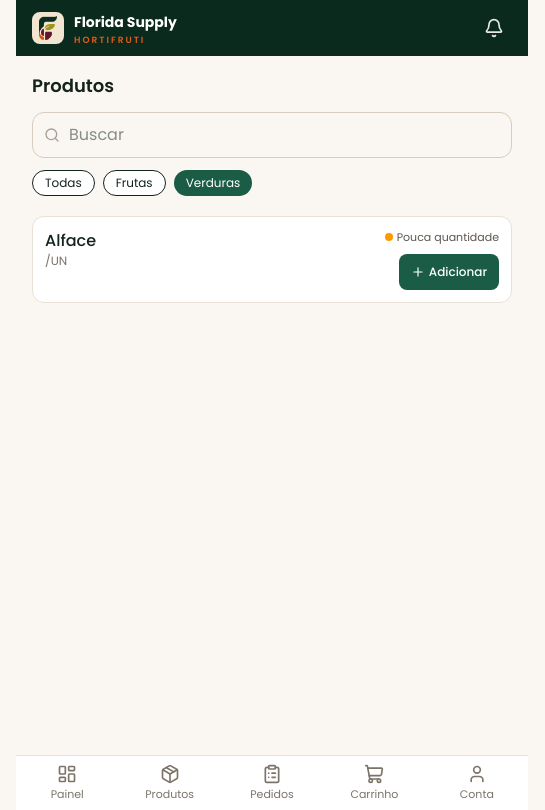
compras › catálogo: busca, categorias e carrinho
Earlier steps of the test are not shown.
Later steps or results of the test are not shown.
Expected: the text "Morango" is not shown
Click the button "Todas" at (63, 183), box x1=32 y1=170 x2=95 y2=196
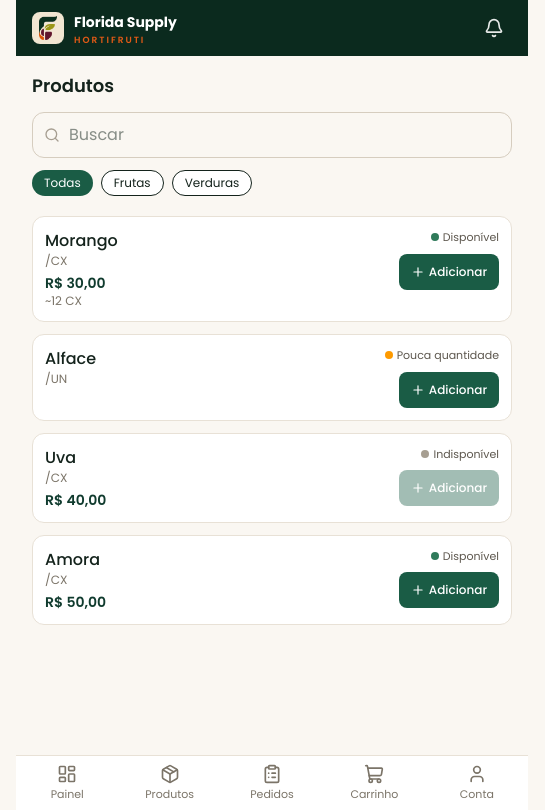
Type "mor" into the field with placeholder "Buscar" at (272, 135), box x1=32 y1=112 x2=512 y2=158
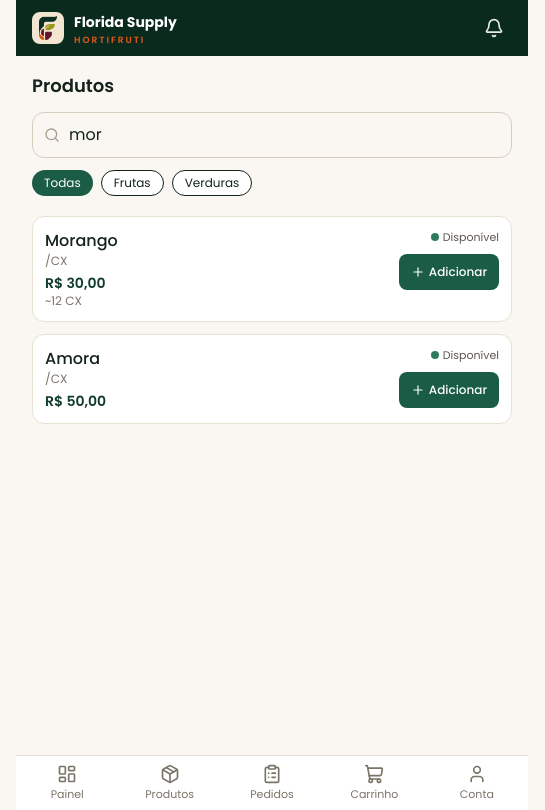
Now the text "Alface" is gone
Clear the field with placeholder "Buscar" at (272, 135), box x1=32 y1=112 x2=512 y2=158
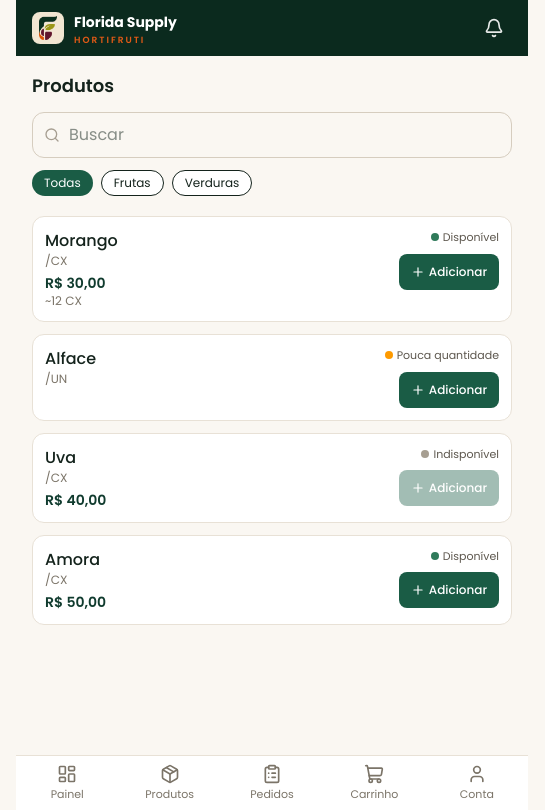
Note: Botões na ordem do catálogo: Morango, Alface, Uva, Amora
Click the button "Adicionar" in the row of "R$ 30,00" at (449, 272), box x1=399 y1=254 x2=499 y2=290
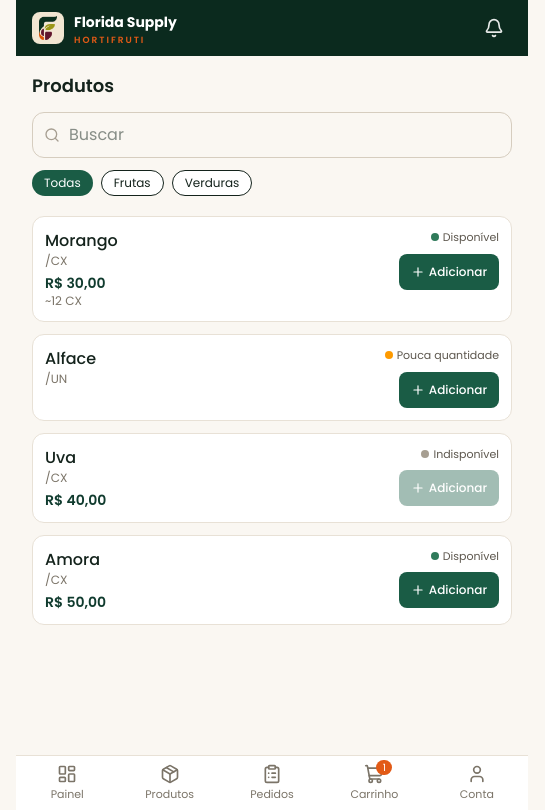
Click the button "Adicionar" in the row of "R$ 30,00" at (449, 272), box x1=399 y1=254 x2=499 y2=290
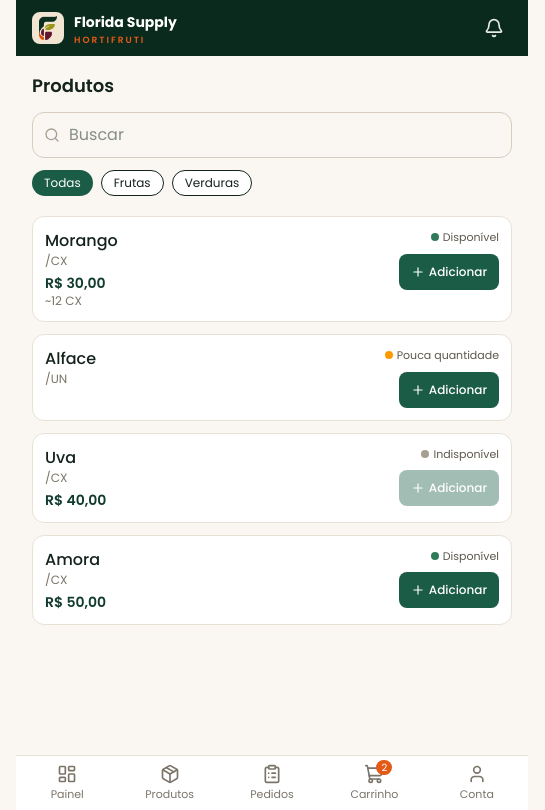
Click the button "Adicionar" below "Pouca quantidade" at (449, 390), box x1=399 y1=372 x2=499 y2=408
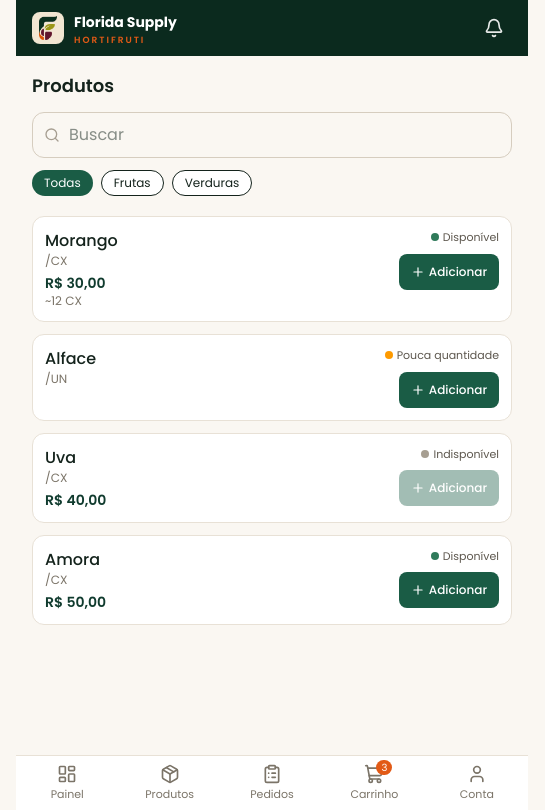
Now the button "Adicionar" below "Indisponível" is disabled, box x1=399 y1=470 x2=499 y2=506
Now the text "3" is shown, box x1=376 y1=760 x2=392 y2=774
